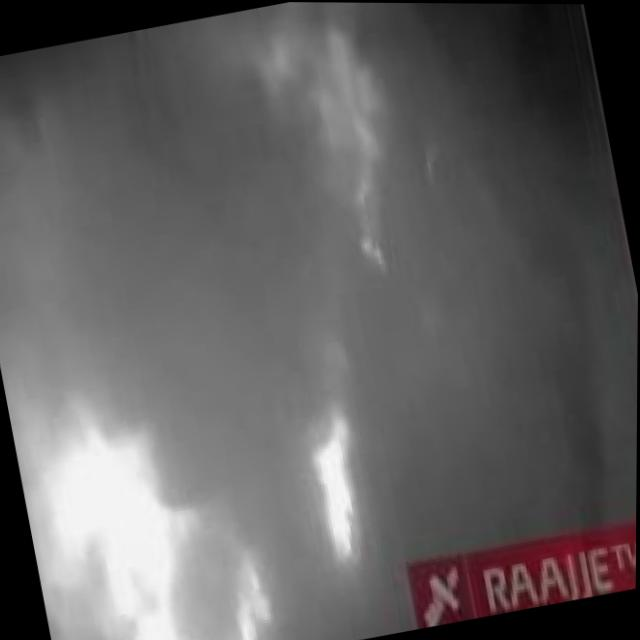fire: (5, 345, 291, 640), (282, 384, 393, 589)
